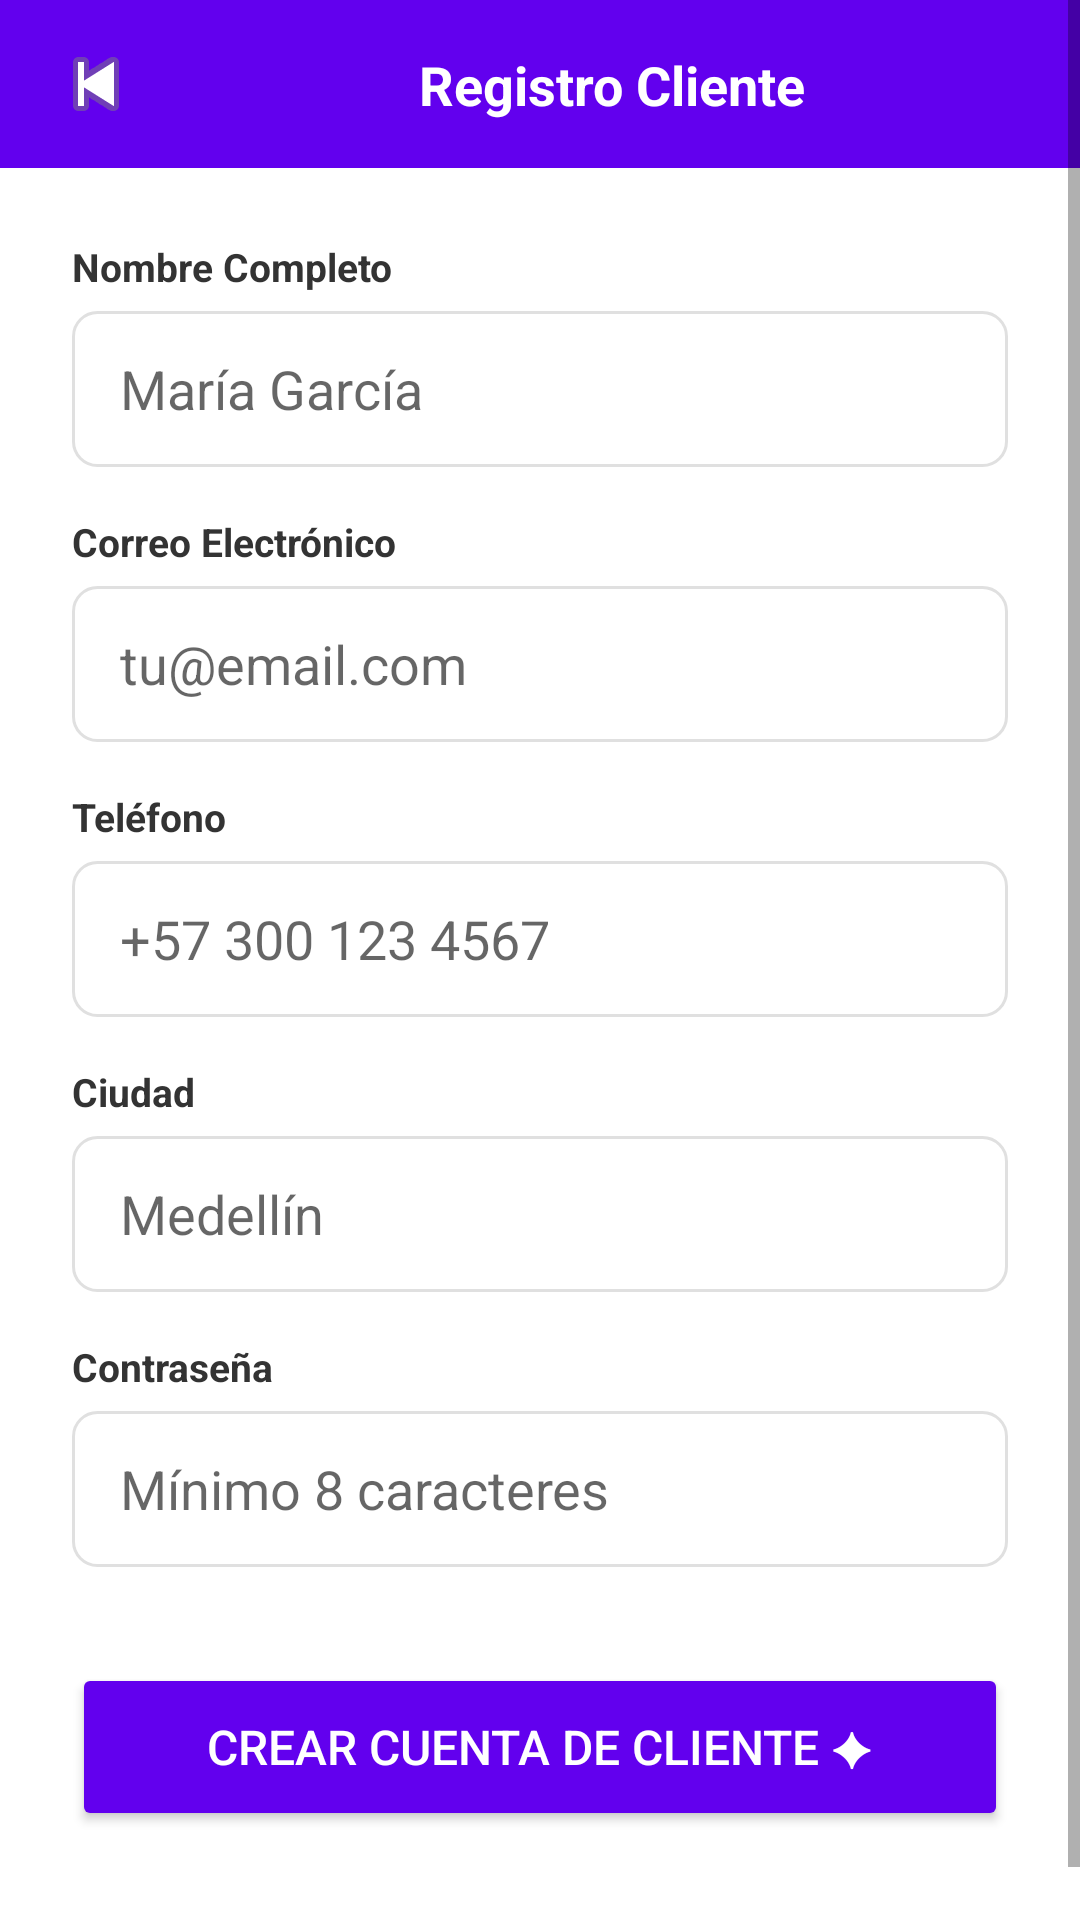

Where icons sit on this 1080px×1920px app screen, as detection(x1, y1, x2, y2):
previous: detection(73, 57, 119, 111)
